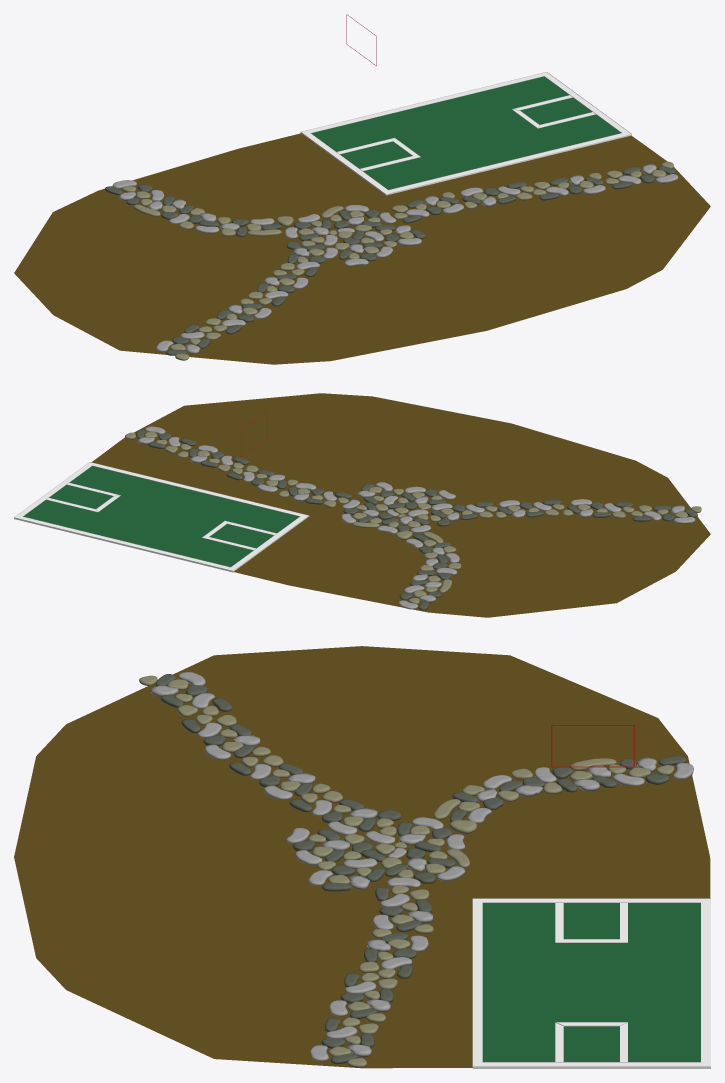
The model's file is Park1.glb.
3 renders of one model, top to bottom at view 1: azimuth 30°, elevation 25°; view 2: azimuth 150°, elevation 25°; view 3: azimuth 270°, elevation 25°, orthographic. The views are drawn at different scales.
Visible parts, largest first — view 1: Park1; view 2: Park1; view 3: Park1.
Boxes of the visible parts, box(x1,y1,x2,y2) form: Park1: box(14, 14, 710, 364); Park1: box(14, 393, 710, 617); Park1: box(14, 646, 710, 1068).
Bounding box in the file's own units: 152 × 31.64 × 106.
